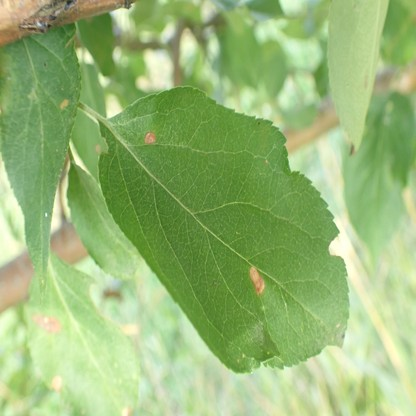frogeye_leaf_spot: (31, 313, 61, 335), (249, 265, 264, 295), (52, 375, 62, 390), (145, 132, 156, 143), (95, 144, 100, 151)
powdery_mildew: (248, 323, 263, 346), (335, 321, 345, 341)
scab: (0, 51, 17, 115)
